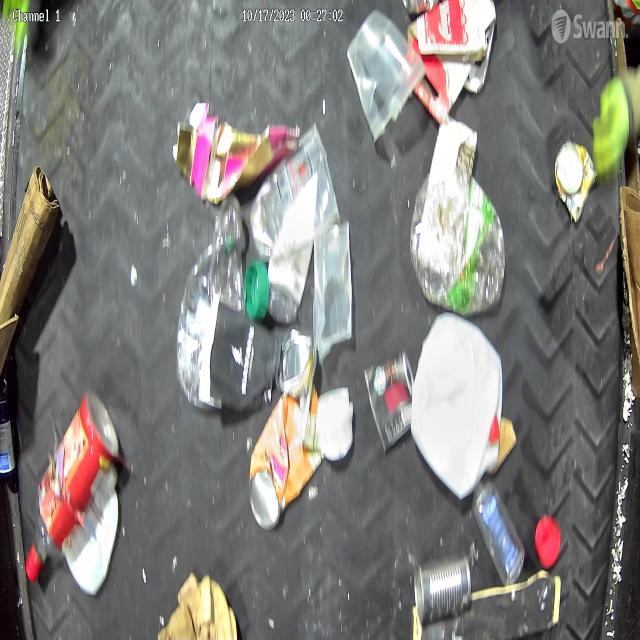can: (250, 394, 312, 531), (412, 549, 473, 620), (555, 141, 597, 219), (276, 324, 317, 397)
milk_jug: (412, 313, 504, 497)
plastic_bottle: (410, 175, 506, 316)
